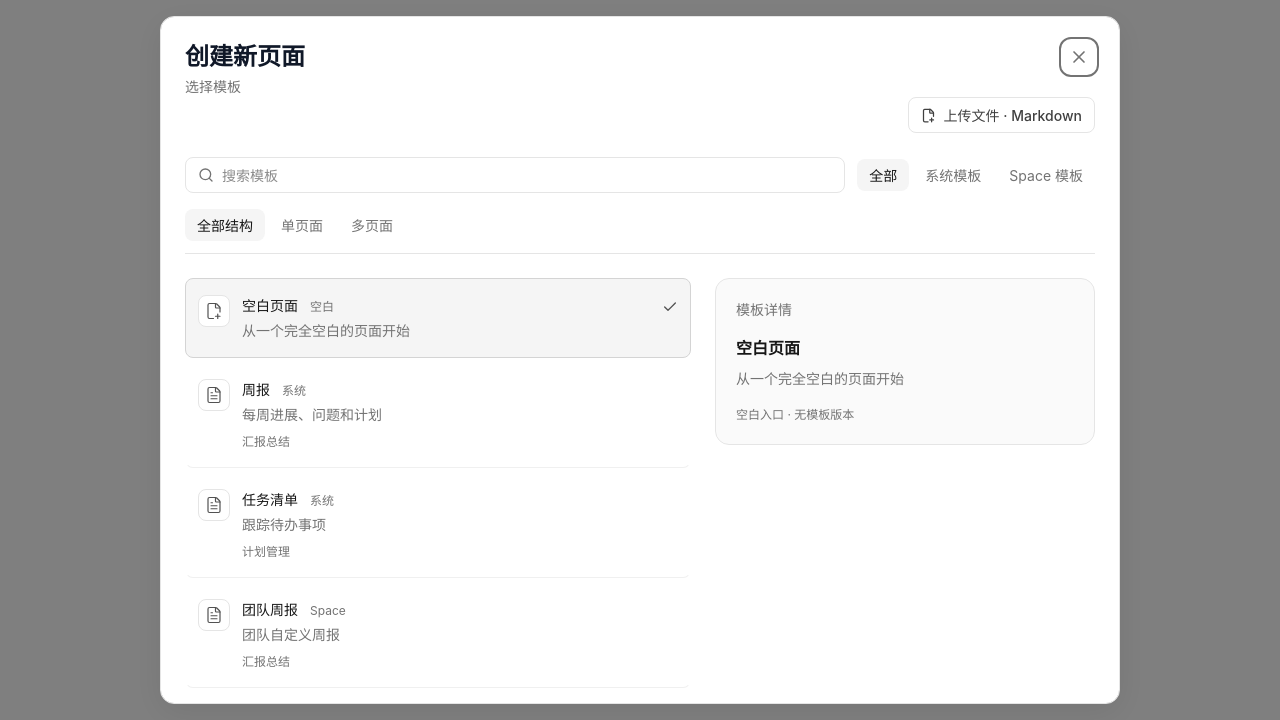
NewPageDialog › keeps Space template default titles literal even when they contain system tokens
Click the button "团队周报 Space 团队自定义周报 汇报总结".
click(214, 615)  # box [185,582,691,688]
(page scrolled)
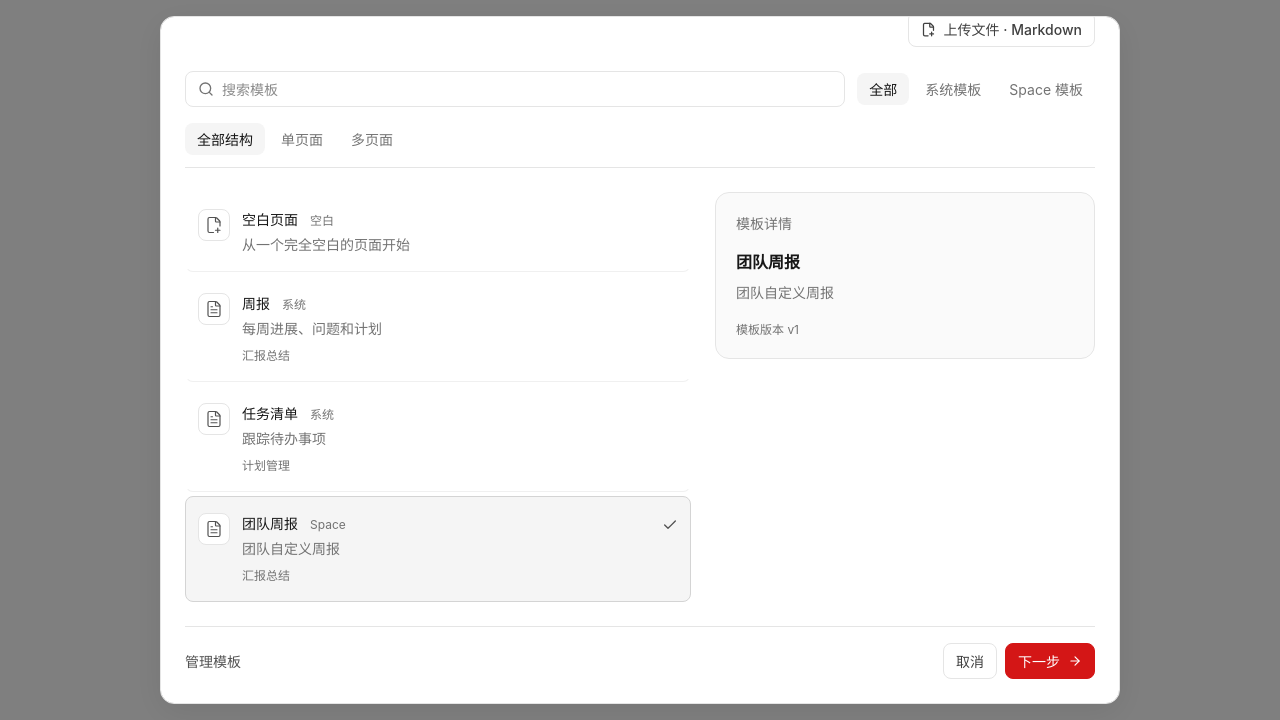
Click the button "下一步".
click(1050, 661)  # box [1005,643,1095,679]
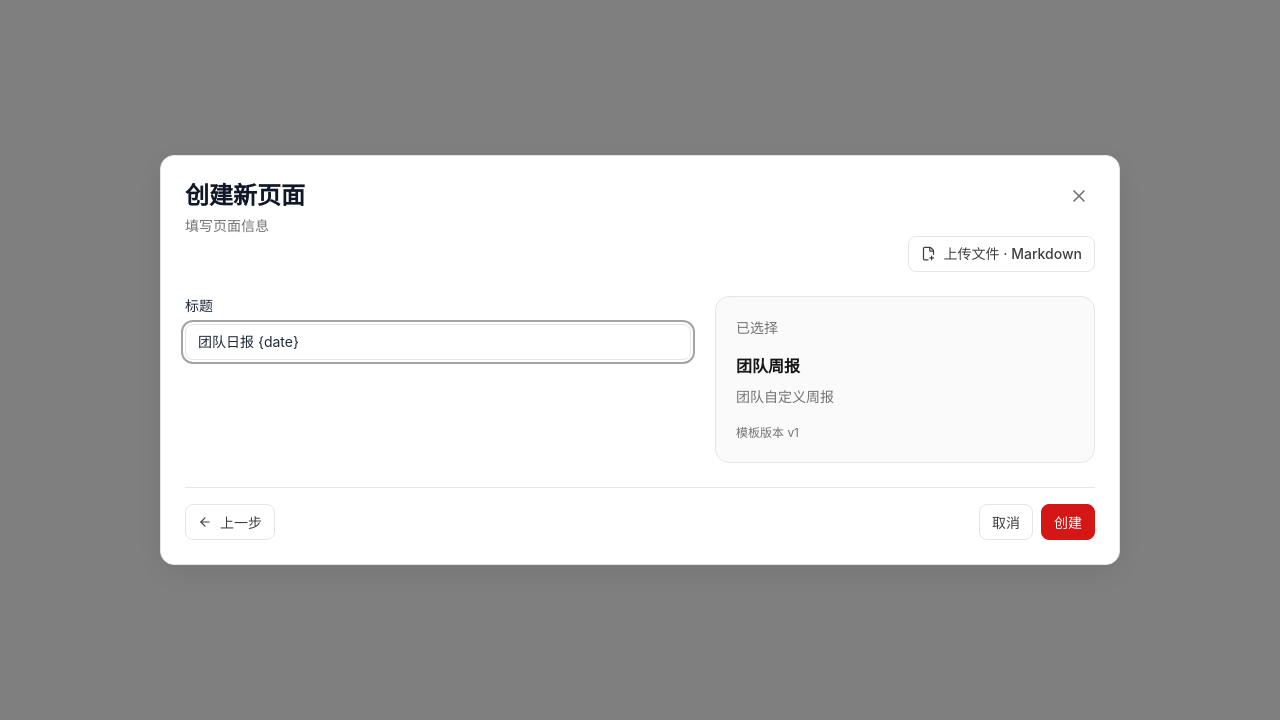
Expected: the field labelled "标题" holds "团队日报 {date}", [185,324,691,360]
